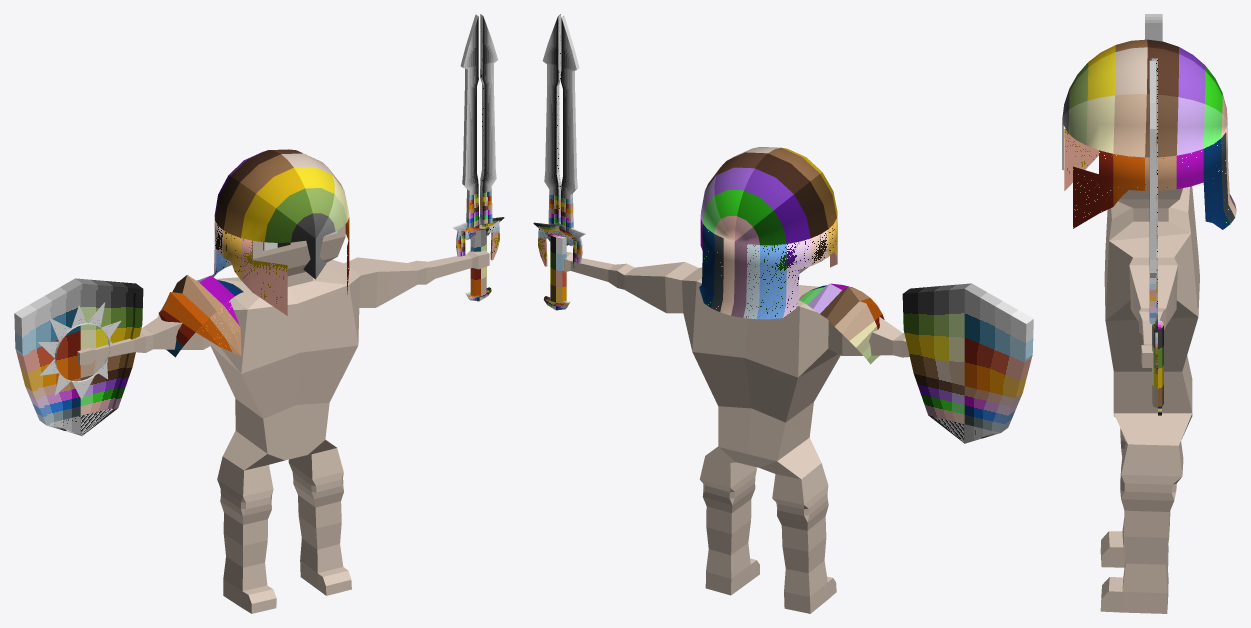
The model's file is lowpoly gladiator Main.fbx.
3 views of the same model, side by side, from view 1: azimuth 30°, elevation 25°; view 2: azimuth 150°, elevation 25°; view 3: azimuth 270°, elevation 25° (orthographic). The views are drawn at different scales.
Parts seen in each view (by area): view 1: Hovedkarakter; view 2: Hovedkarakter; view 3: Hovedkarakter.
Part boxes in pixels (<box>): Hovedkarakter: <box>14,14,504,613</box>; Hovedkarakter: <box>533,14,1033,613</box>; Hovedkarakter: <box>1062,14,1236,613</box>.
Size of the model in its own units: 571 by 587 by 144.
